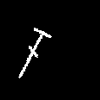double_crochet: (19, 28, 50, 77)
